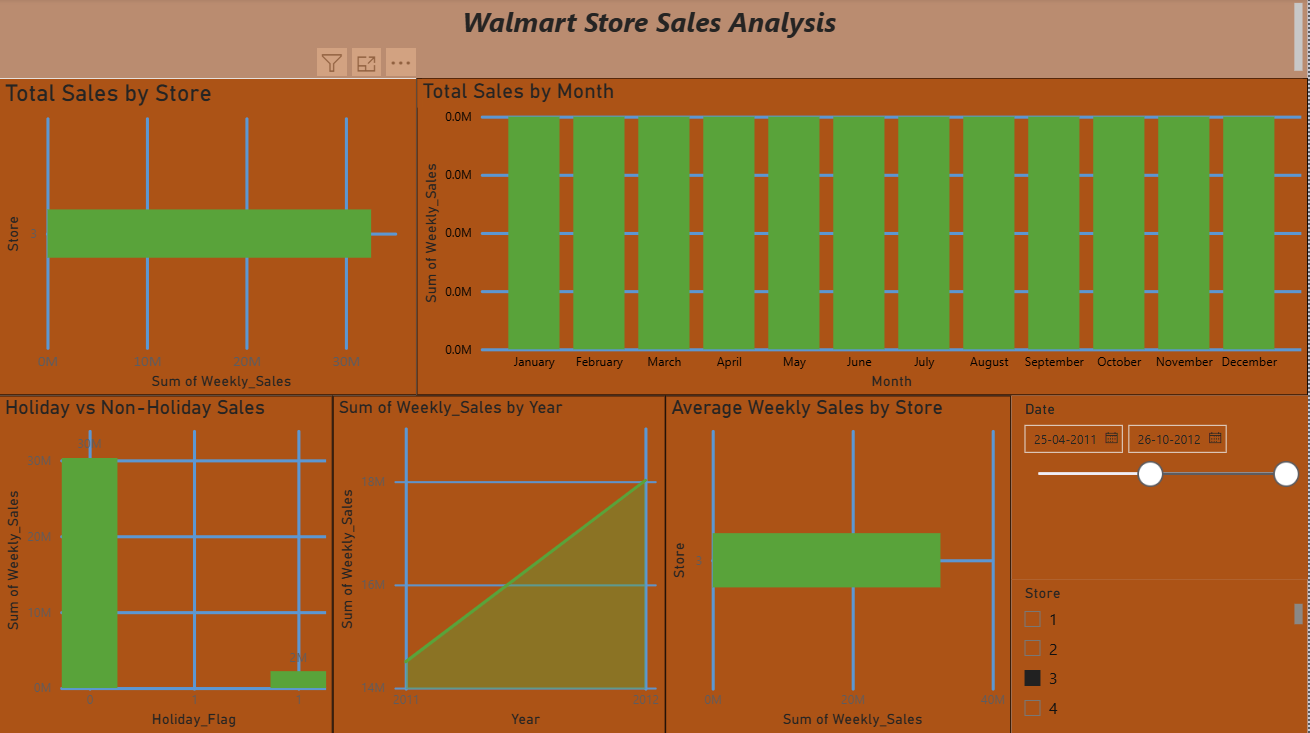

Layout of this report page (visuals, bound fields, positions):
{"tool":"powerbi","page":{"name":"v","canvas":[1280,720],"ordinal":0},"visuals":[{"type":"barChart","title":"Total Sales by Store","fields":{"Category":["Walmart_sales_cleaned.Store"],"Y":["Sum(Walmart_sales_cleaned.Weekly_Sales)"]},"box":[0,78.3,408.4,310.6],"z":1},{"type":"clusteredColumnChart","title":"Total Sales by Month","fields":{"Y":["Sum(Walmart_sales_cleaned.Weekly_Sales)"],"Category":["Walmart_sales_cleaned.Date.Variation.Date Hierarchy.Month"]},"box":[408.4,78.3,871.9,310.6],"z":2},{"type":"lineChart","fields":{"Category":["Walmart_sales_cleaned.Date.Variation.Date Hierarchy.Year"],"Y":["Sum(Walmart_sales_cleaned.Weekly_Sales)"]},"box":[326.5,388.9,325.3,331.4],"z":3},{"type":"clusteredColumnChart","title":"Holiday vs Non-Holiday Sales","fields":{"Category":["Walmart_sales_cleaned.Holiday_Flag"],"Y":["Sum(Walmart_sales_cleaned.Weekly_Sales)"]},"box":[0,388.9,326.5,331.4],"z":4},{"type":"clusteredBarChart","title":"Average Weekly Sales by Store","fields":{"Category":["Walmart_sales_cleaned.Store"],"Y":["Sum(Walmart_sales_cleaned.Weekly_Sales)"]},"box":[651.8,388.9,338.7,331.4],"z":5},{"type":"textbox","box":[0,0,1280.3,78.3],"z":6},{"type":"slicer","fields":{"Values":["Walmart_sales_cleaned.Store"]},"box":[990.5,568.6,289.8,151.6],"z":7},{"type":"slicer","fields":{"Values":["Walmart_sales_cleaned.Date"]},"box":[990.5,388.9,289.8,179.8],"z":8}]}

Visuals, with their boxes in screenshot pixels (x1, y1, x2, y2), scaled from the page's 1280x720 canvas onto the 1310x733 screenshot:
"Total Sales by Store" barChart: (0,80,418,396)
"Total Sales by Month" clusteredColumnChart: (418,80,1309,396)
lineChart - Walmart_sales_cleaned.Date.Variation.Date Hierarchy.Year x Sum(Walmart_sales_cleaned.Weekly_Sales): (334,396,667,732)
"Holiday vs Non-Holiday Sales" clusteredColumnChart: (0,396,334,732)
"Average Weekly Sales by Store" clusteredBarChart: (667,396,1014,732)
textbox: (0,0,1309,80)
slicer - Walmart_sales_cleaned.Store: (1014,579,1309,732)
slicer - Walmart_sales_cleaned.Date: (1014,396,1309,579)
